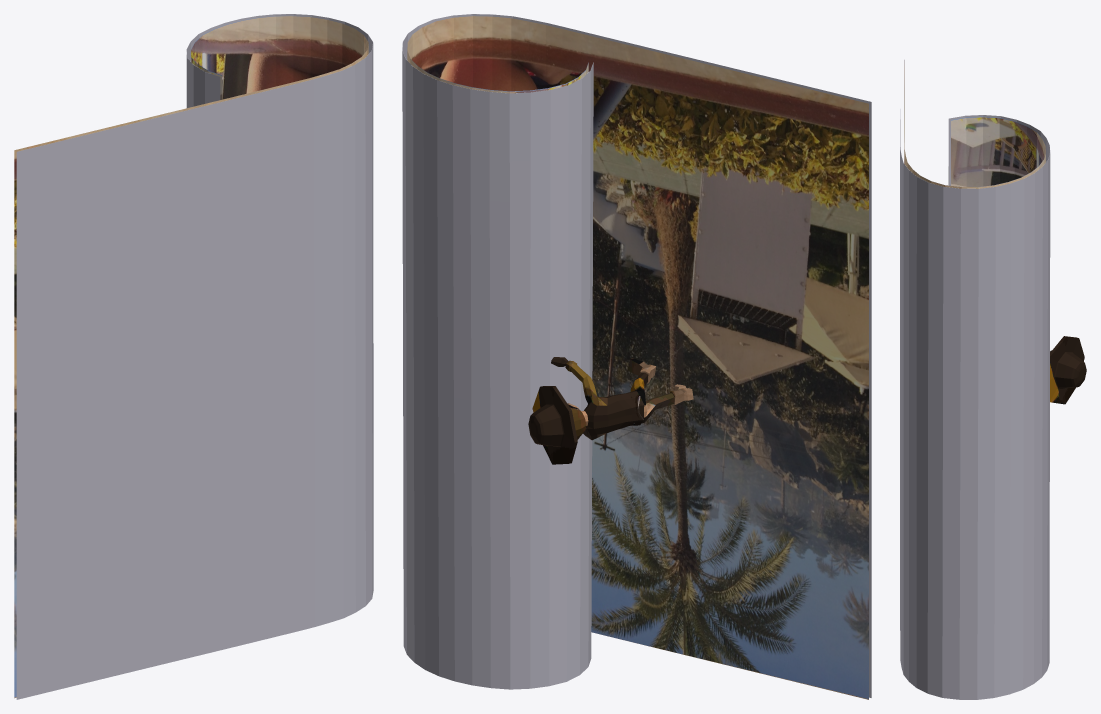
The model's file is start_file2_000049.obj.
The picture shows the model from 3 angles, left to right: view 1: azimuth 30°, elevation 25°; view 2: azimuth 150°, elevation 25°; view 3: azimuth 270°, elevation 25°; orthographic projection. The views are drawn at different scales.
Parts seen in each view (by area): view 1: Cube_Cube.001; view 2: Cube_Cube.001, Character_Cube; view 3: Cube_Cube.001, Character_Cube.
Boxes of the visible parts, x1=… form: Cube_Cube.001: x1=14, y1=14, x2=373, y2=699; Cube_Cube.001: x1=402, y1=14, x2=871, y2=699; Character_Cube: x1=528, y1=357, x2=693, y2=464; Cube_Cube.001: x1=900, y1=60, x2=1050, y2=699; Character_Cube: x1=1050, y1=336, x2=1086, y2=404.
Bounding box in the file's own units: 1.12 × 1.52 × 0.5044.
Materials: 2 (2 with a texture image).
